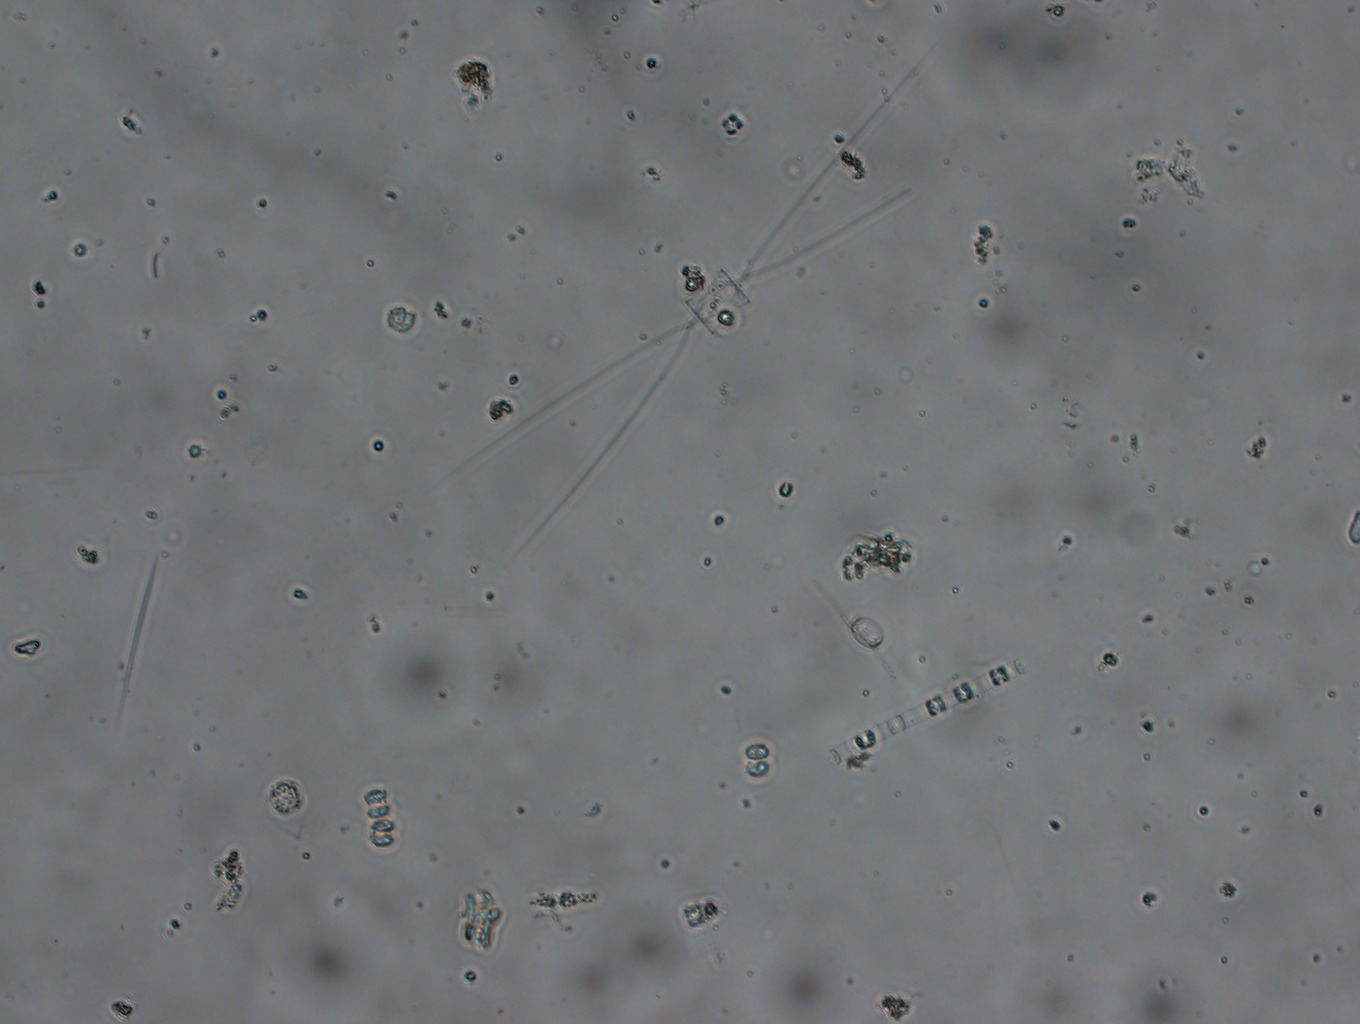chaetoceros: (458, 35, 955, 577)
skeletonema: (832, 631, 1064, 777)
